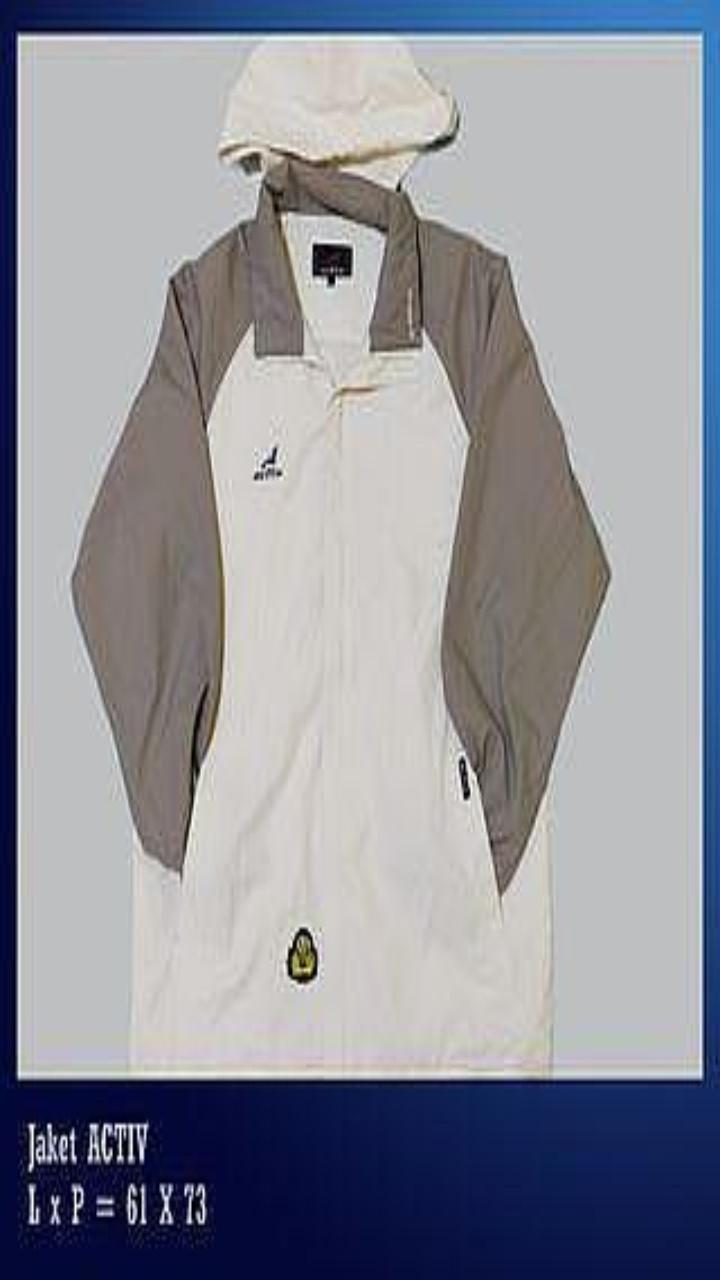Sports_Jacket: (73, 40, 607, 1074)
